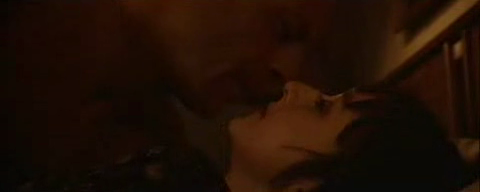cu: (1, 1, 480, 192)
face: (172, 1, 340, 104), (223, 79, 368, 152)
person: (214, 76, 480, 192)
